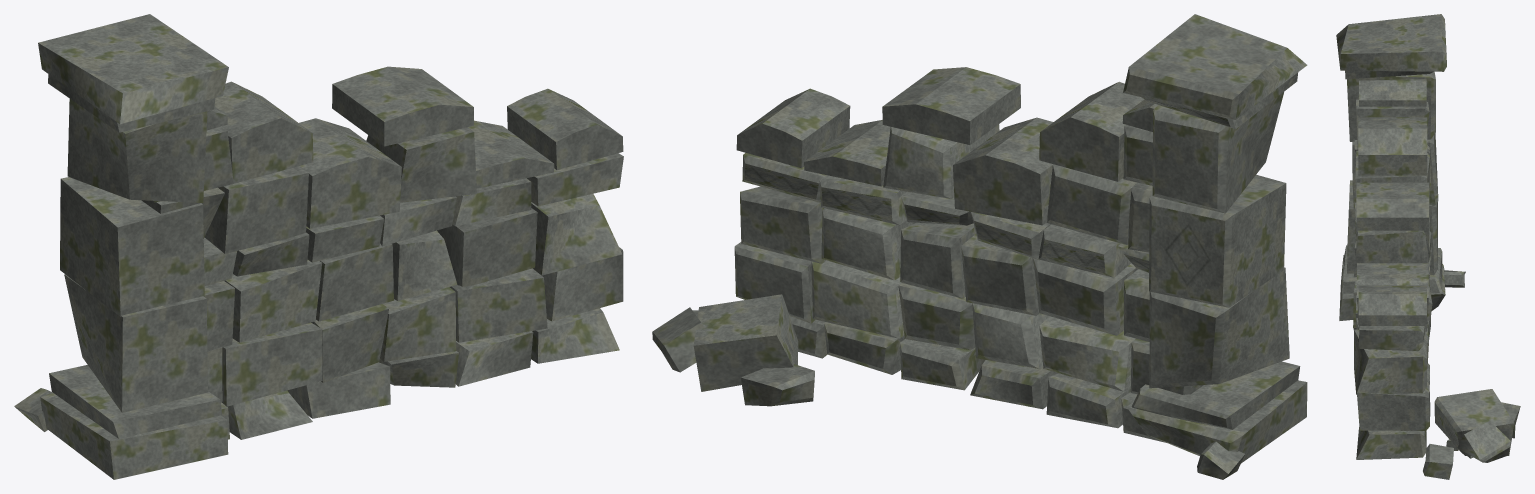
The model's file is A_Mossy_Straight_Wall.obj.
3 views of the same model, side by side, from view 1: azimuth 30°, elevation 25°; view 2: azimuth 150°, elevation 25°; view 3: azimuth 270°, elevation 25° (orthographic). The views are drawn at different scales.
Visible parts, largest first — view 1: A_Mossy_Straight_Wall_Stone_Slate, A_Mossy_Straight_Wall_Stone_Shadow, A_Mossy_Straight_Wall_Stone_Pale, A_Mossy_Straight_Wall_Stone_Warm; view 2: A_Mossy_Straight_Wall_Stone_Slate, A_Mossy_Straight_Wall_Stone_Shadow, A_Mossy_Straight_Wall_Stone_Pale, A_Mossy_Straight_Wall_Stone_Warm, A_Mossy_Straight_Wall_Carved_Band, A_Mossy_Straight_Wall_Carved_Diamond; view 3: A_Mossy_Straight_Wall_Stone_Slate, A_Mossy_Straight_Wall_Stone_Shadow, A_Mossy_Straight_Wall_Stone_Pale, A_Mossy_Straight_Wall_Stone_Warm.
Boxes of the visible parts, x1,y1,x2,y2 form: A_Mossy_Straight_Wall_Stone_Slate: (14, 14, 623, 479); A_Mossy_Straight_Wall_Stone_Shadow: (49, 66, 473, 438); A_Mossy_Straight_Wall_Stone_Pale: (67, 88, 623, 439); A_Mossy_Straight_Wall_Stone_Warm: (60, 177, 458, 404); A_Mossy_Straight_Wall_Stone_Slate: (652, 14, 1307, 479); A_Mossy_Straight_Wall_Stone_Shadow: (882, 67, 1300, 429); A_Mossy_Straight_Wall_Stone_Pale: (736, 88, 1283, 442); A_Mossy_Straight_Wall_Stone_Warm: (693, 174, 1286, 394); A_Mossy_Straight_Wall_Carved_Band: (744, 97, 1230, 273); A_Mossy_Straight_Wall_Carved_Diamond: (1151, 205, 1224, 304); A_Mossy_Straight_Wall_Stone_Slate: (1336, 14, 1520, 479); A_Mossy_Straight_Wall_Stone_Shadow: (1343, 79, 1442, 328); A_Mossy_Straight_Wall_Stone_Pale: (1347, 71, 1435, 341); A_Mossy_Straight_Wall_Stone_Warm: (1352, 135, 1514, 455).
Bounding box in the file's own units: 3.88 × 2.52 × 1.54.
6 materials, 6 textured.
